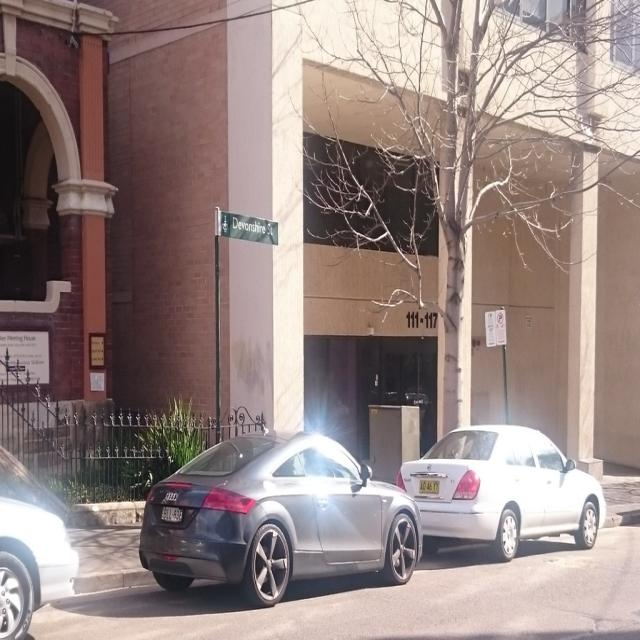car: (135, 423, 424, 608)
